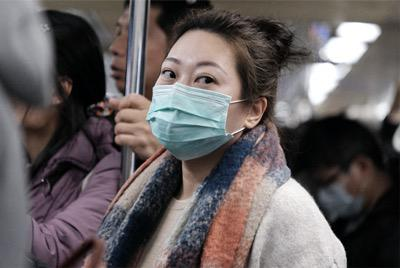with_mask: (146, 54, 244, 163), (310, 170, 365, 223)
without_mask: (106, 17, 166, 96)
